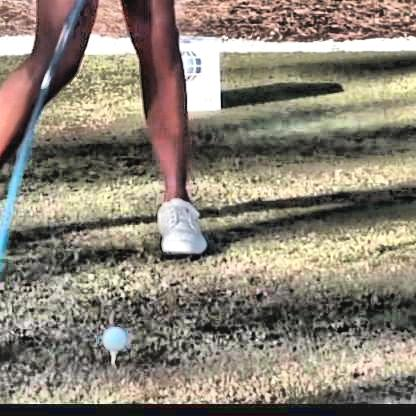golfball: (98, 325, 123, 349)
